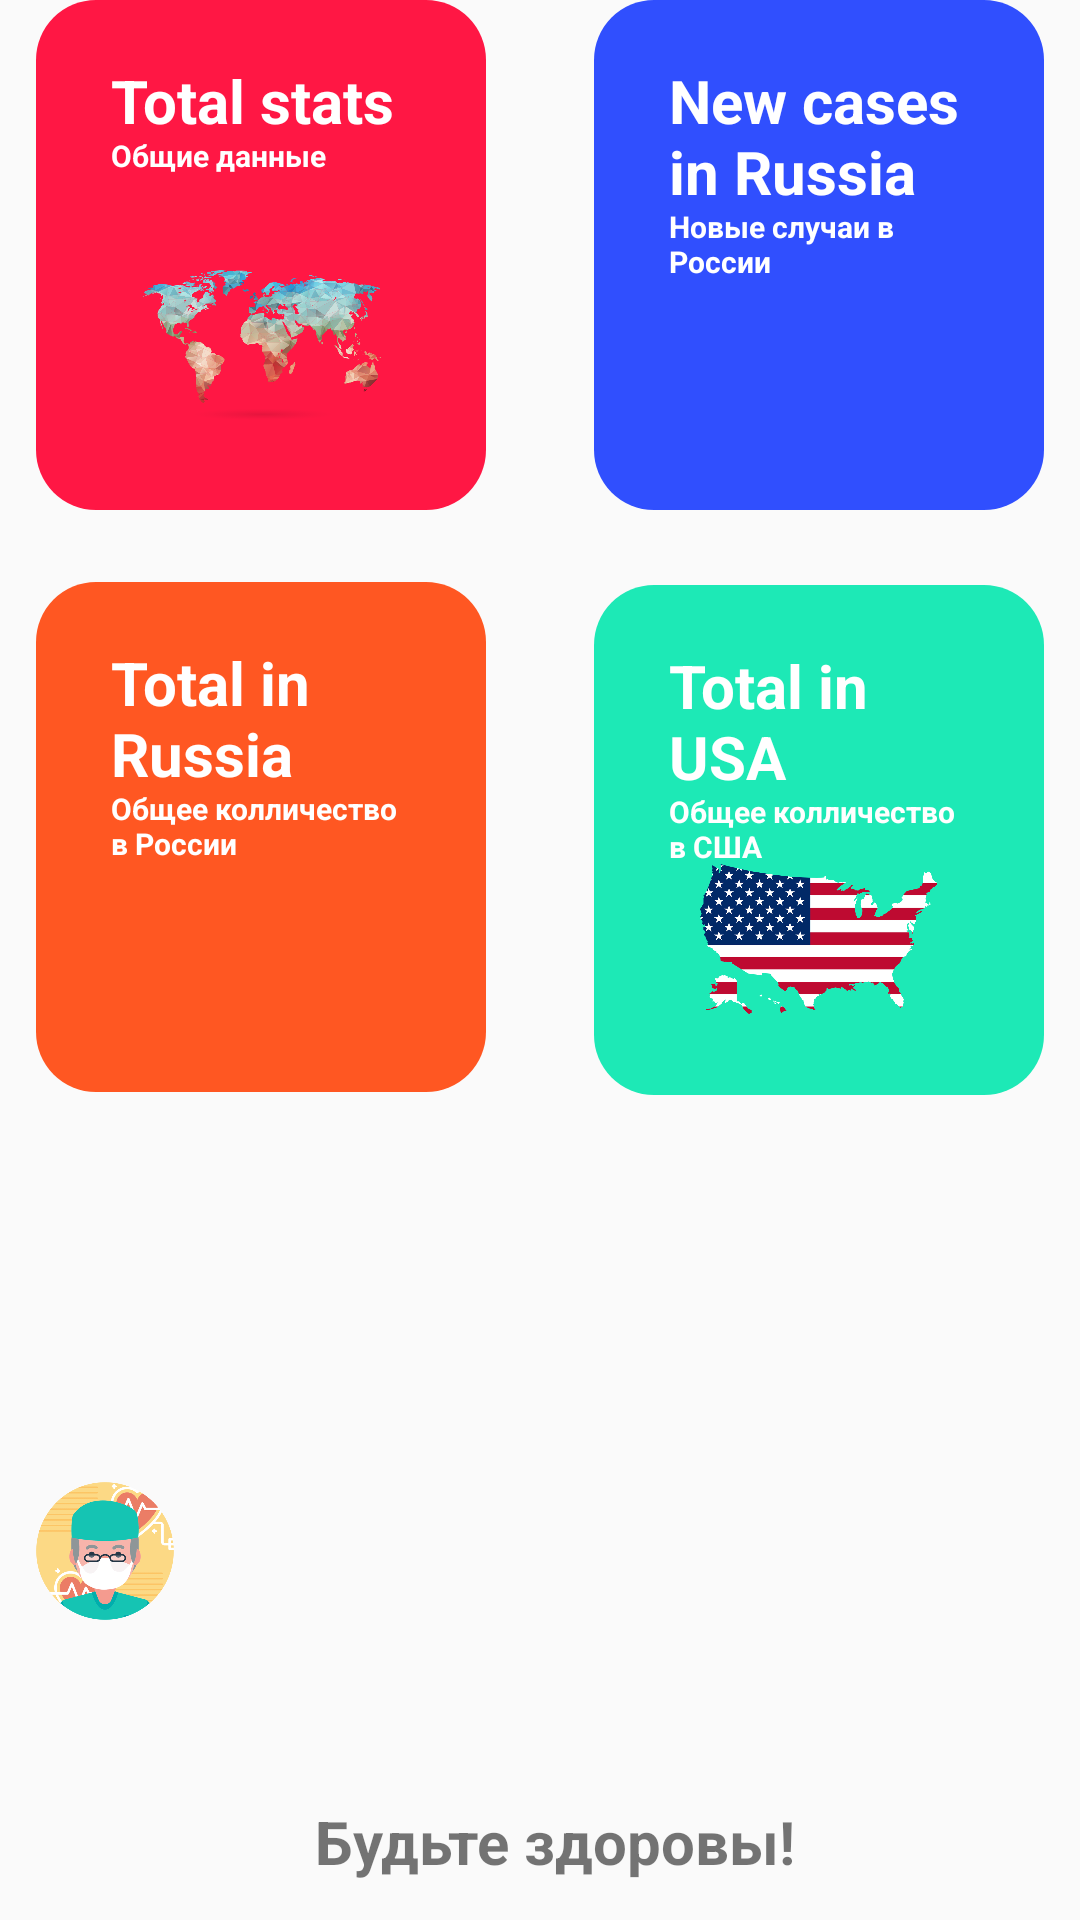

Named icons in this screenshot (1080 x 1920) and their centers, [x,y]:
doctor: [105,1551]
map atercolor: [262,342]
